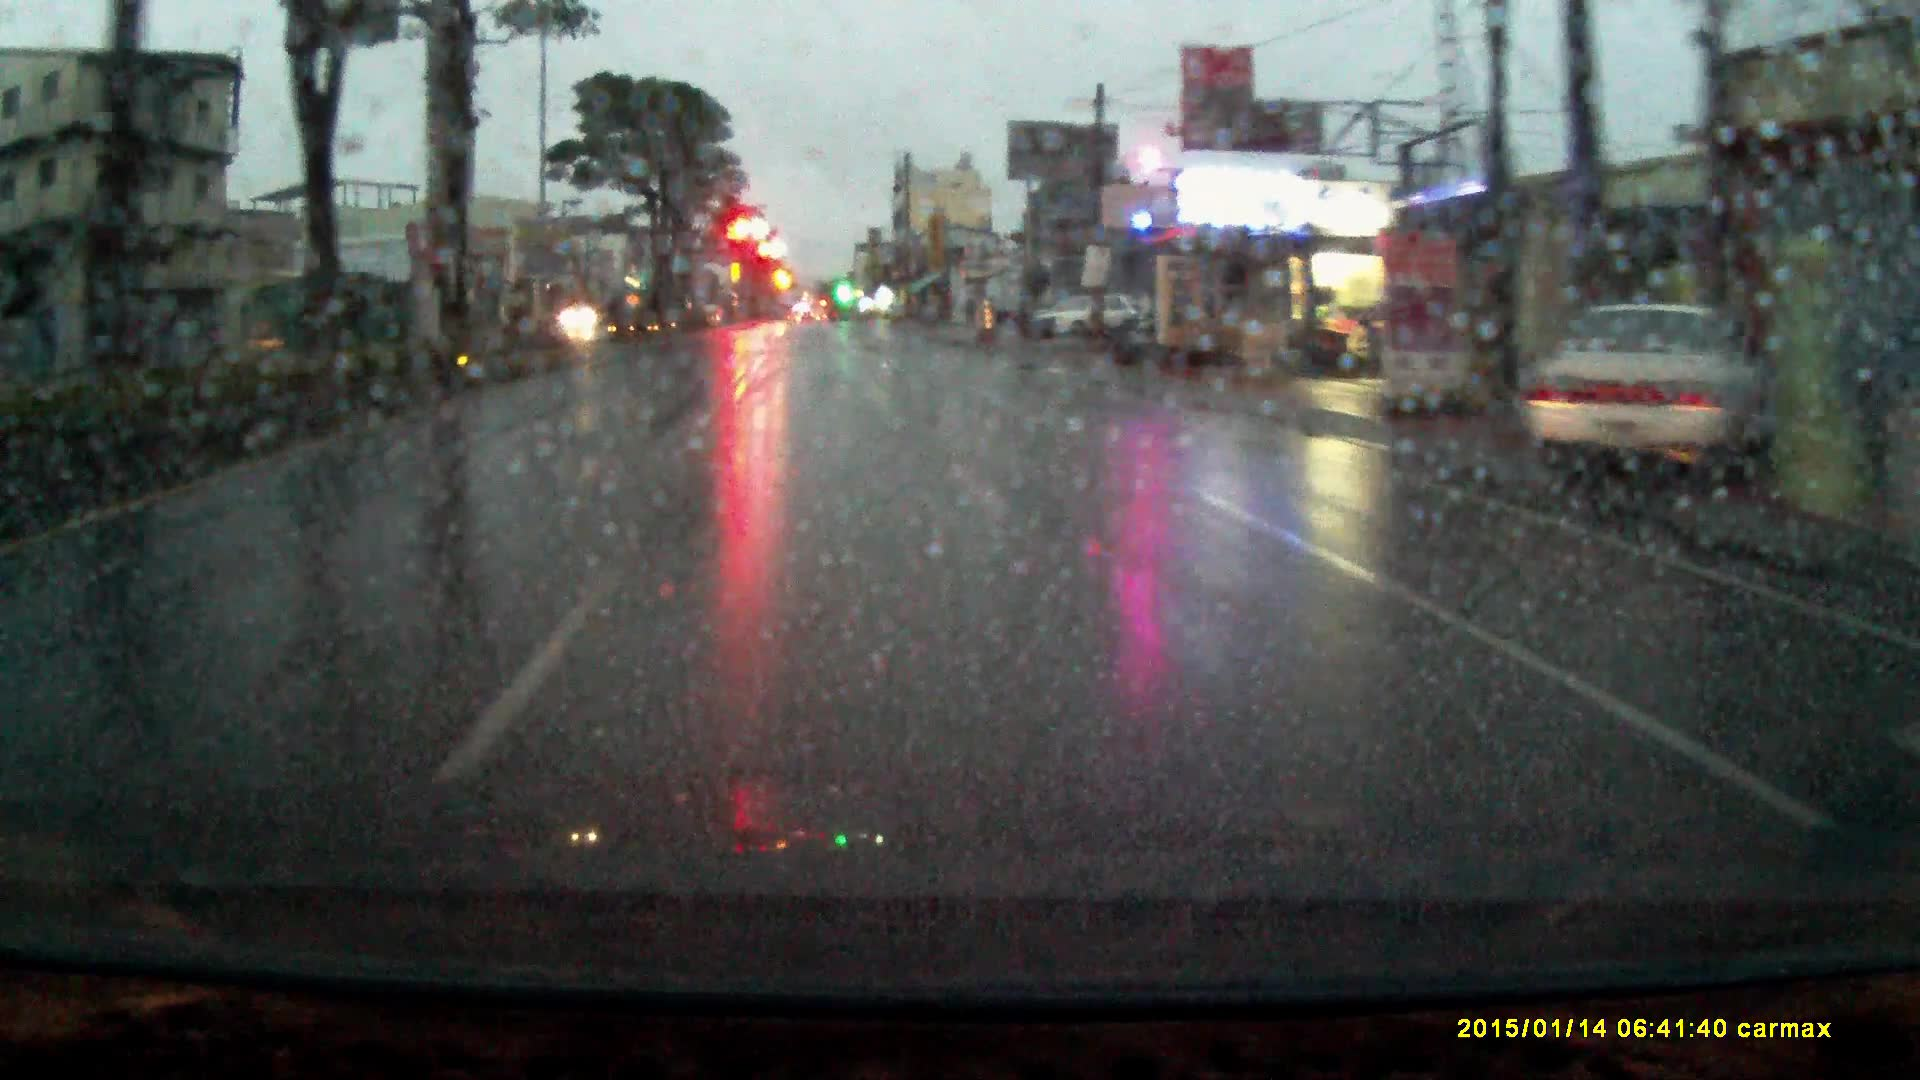vehicle: (1519, 290, 1772, 481), (1036, 287, 1139, 336), (560, 297, 607, 330)
